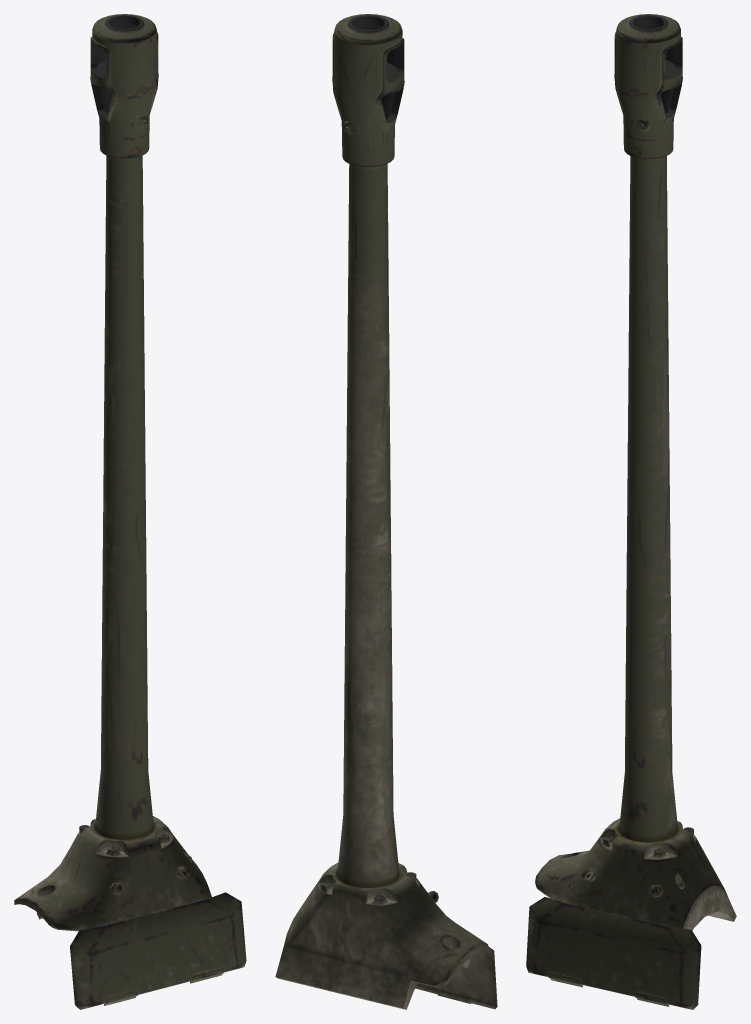
The model's file is Gun_01.glb.
3 views of the same model, side by side, from view 1: azimuth 30°, elevation 25°; view 2: azimuth 150°, elevation 25°; view 3: azimuth 330°, elevation 25° (orthographic). The views are drawn at different scales.
Visible parts, largest first — view 1: set_0_group_0; view 2: set_0_group_0; view 3: set_0_group_0.
Part boxes in pixels (x1=…): set_0_group_0: x1=14, y1=14, x2=246, y2=1009; set_0_group_0: x1=275, y1=14, x2=497, y2=1009; set_0_group_0: x1=526, y1=14, x2=736, y2=1009.
Bounding box in the file's own units: 0.918 × 4.6 × 0.6063.
1 material, 1 textured.
